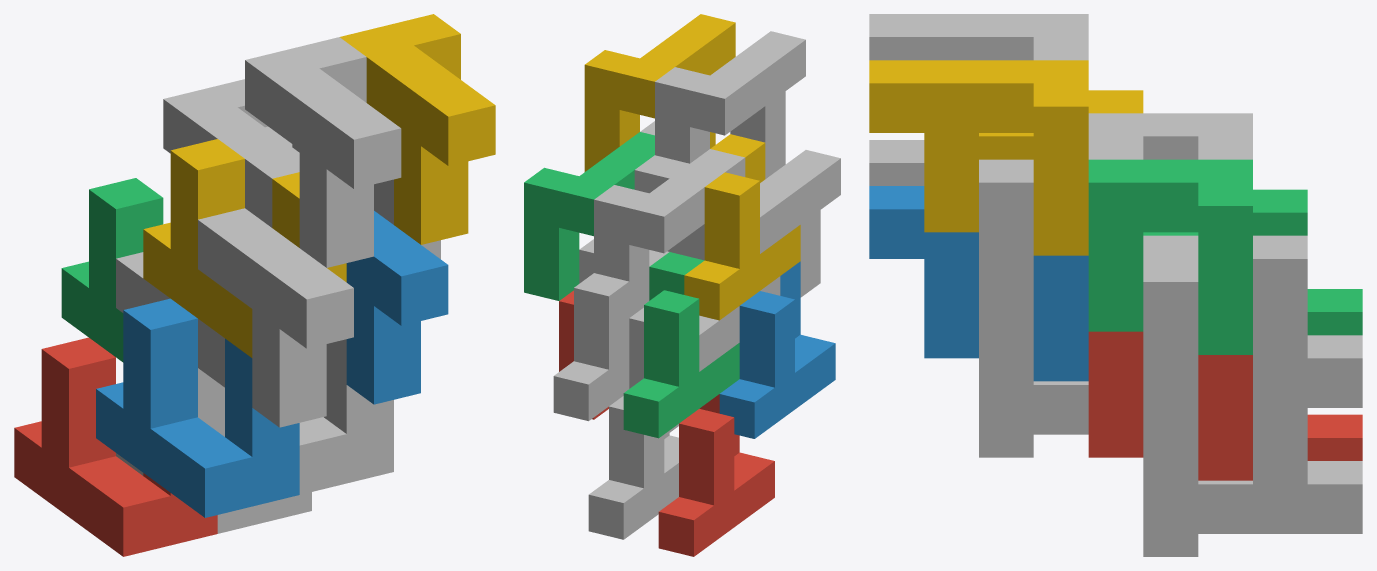
The model's file is tiling.obj.
The picture shows the model from 3 angles, left to right: view 1: azimuth 30°, elevation 25°; view 2: azimuth 150°, elevation 25°; view 3: azimuth 270°, elevation 25°; orthographic projection. The views are drawn at different scales.
Parts seen in each view (by area): view 1: copy_1_domain_2, copy_2_domain_4, copy_2_domain_8, copy_1_domain_1, copy_2_domain_2, copy_1_domain_4, copy_2_domain_6, copy_1_domain_3, copy_1_domain_6, copy_2_domain_3, copy_2_domain_1, copy_1_domain_5 (+1 smaller); view 2: copy_2_domain_4, copy_1_domain_3, copy_1_domain_2, copy_2_domain_3, copy_1_domain_4, copy_1_domain_1, copy_2_domain_8, copy_2_domain_7, copy_1_domain_7, copy_1_domain_5, copy_2_domain_2, copy_2_domain_1 (+2 smaller); view 3: copy_2_domain_8, copy_2_domain_7, copy_1_domain_7, copy_1_domain_5, copy_2_domain_6, copy_2_domain_5, copy_1_domain_8, copy_2_domain_4, copy_1_domain_6, copy_2_domain_3, copy_1_domain_3, copy_1_domain_4 (+2 smaller).
Boxes of the visible parts, <box> form: copy_1_domain_2: <box>96,298,299,517</box>; copy_2_domain_4: <box>245,37,401,267</box>; copy_2_domain_8: <box>340,14,495,244</box>; copy_1_domain_1: <box>14,337,217,556</box>; copy_2_domain_2: <box>198,208,353,427</box>; copy_1_domain_4: <box>143,139,346,357</box>; copy_2_domain_6: <box>346,211,448,404</box>; copy_1_domain_3: <box>61,178,163,362</box>; copy_1_domain_6: <box>299,339,393,494</box>; copy_2_domain_3: <box>163,79,299,227</box>; copy_2_domain_1: <box>116,252,224,436</box>; copy_1_domain_5: <box>116,453,311,533</box>; copy_2_domain_4: <box>655,31,805,178</box>; copy_1_domain_3: <box>623,252,739,438</box>; copy_1_domain_2: <box>719,261,835,438</box>; copy_2_domain_3: <box>594,149,745,317</box>; copy_1_domain_4: <box>684,134,800,320</box>; copy_1_domain_1: <box>658,394,774,556</box>; copy_2_domain_8: <box>584,14,735,171</box>; copy_2_domain_7: <box>524,132,654,300</box>; copy_1_domain_7: <box>553,239,629,421</box>; copy_1_domain_5: <box>588,396,678,539</box>; copy_2_domain_2: <box>760,150,840,297</box>; copy_2_domain_1: <box>629,276,780,436</box>; copy_2_domain_8: <box>869,60,1088,255</box>; copy_2_domain_7: <box>1088,159,1252,354</box>; copy_1_domain_7: <box>1143,235,1362,430</box>; copy_1_domain_5: <box>1143,408,1362,556</box>; copy_2_domain_6: <box>869,186,1088,381</box>; copy_2_domain_5: <box>1088,331,1252,480</box>; copy_1_domain_8: <box>979,136,1198,331</box>; copy_2_domain_4: <box>869,14,1088,60</box>; copy_1_domain_6: <box>979,331,1088,457</box>; copy_2_domain_3: <box>1088,113,1252,159</box>; copy_1_domain_3: <box>1143,189,1362,335</box>; copy_1_domain_4: <box>979,90,1143,159</box>.
Size of the model in its own units: 6 by 10 by 9.
